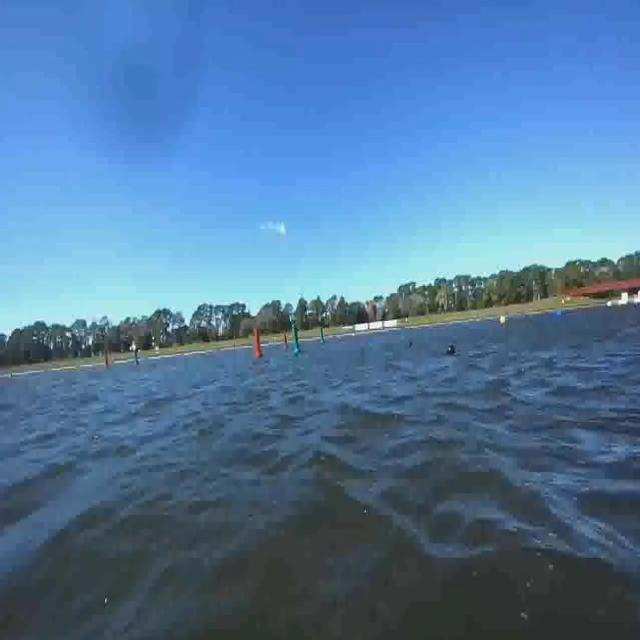black-buoy: (446, 341, 455, 356)
blue-buoy: (555, 310, 563, 320)
green-column-buoy: (292, 326, 300, 356), (132, 343, 139, 368), (320, 328, 326, 345)
red-column-buoy: (252, 327, 263, 358), (282, 330, 289, 350), (105, 353, 112, 370)
yellow-buoy: (498, 314, 506, 327)
